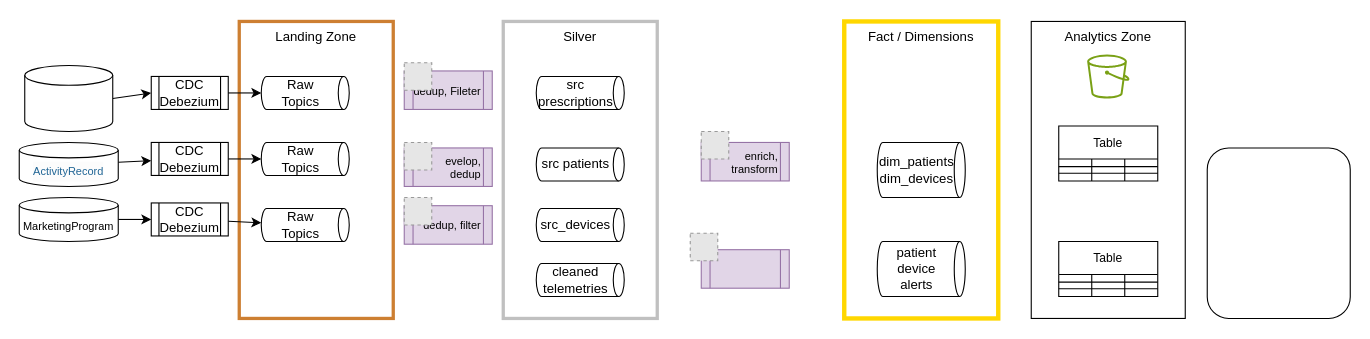
Some shapes in this 1370 by 339 pixel diagram are drawn without their labels. Grey dashed boxes stand in for pictures. The centre of each missing label's shape, as x and y in pixels:
BI Dashboard: the point at 1278,232
Leads: the point at 68,97
windowing stateful: the point at 744,268
